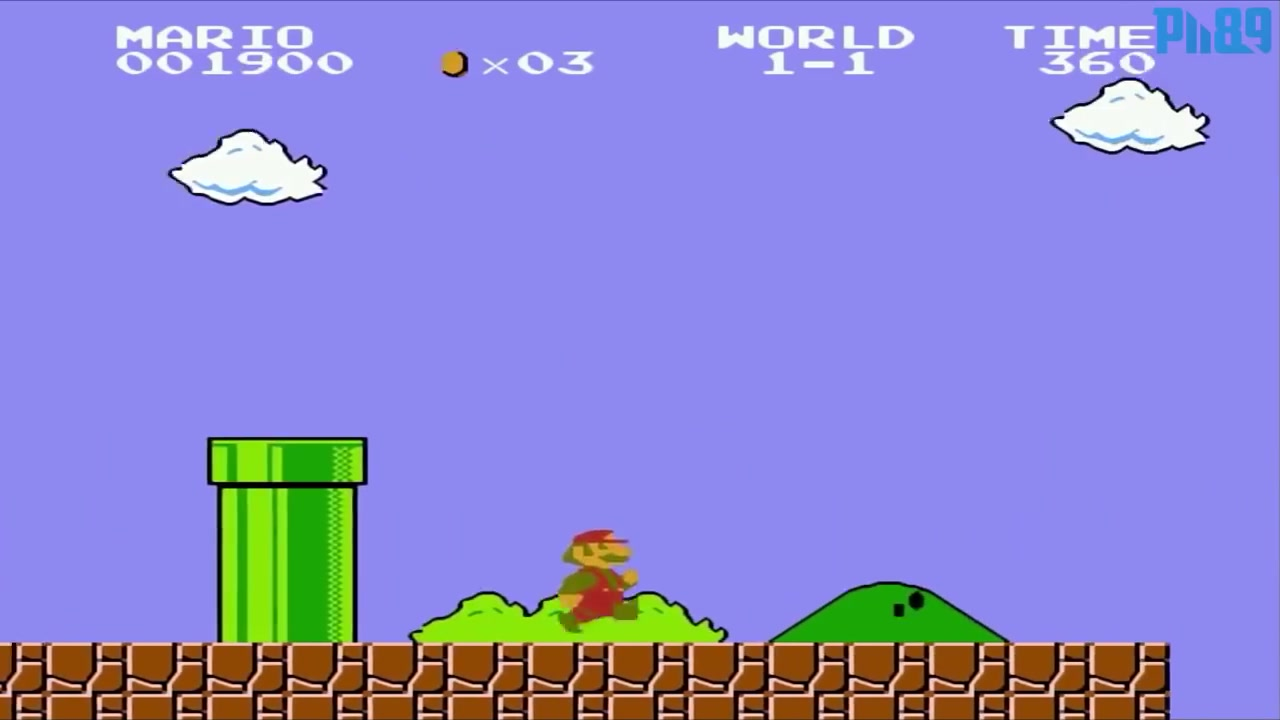mario: (549, 520, 653, 635)
